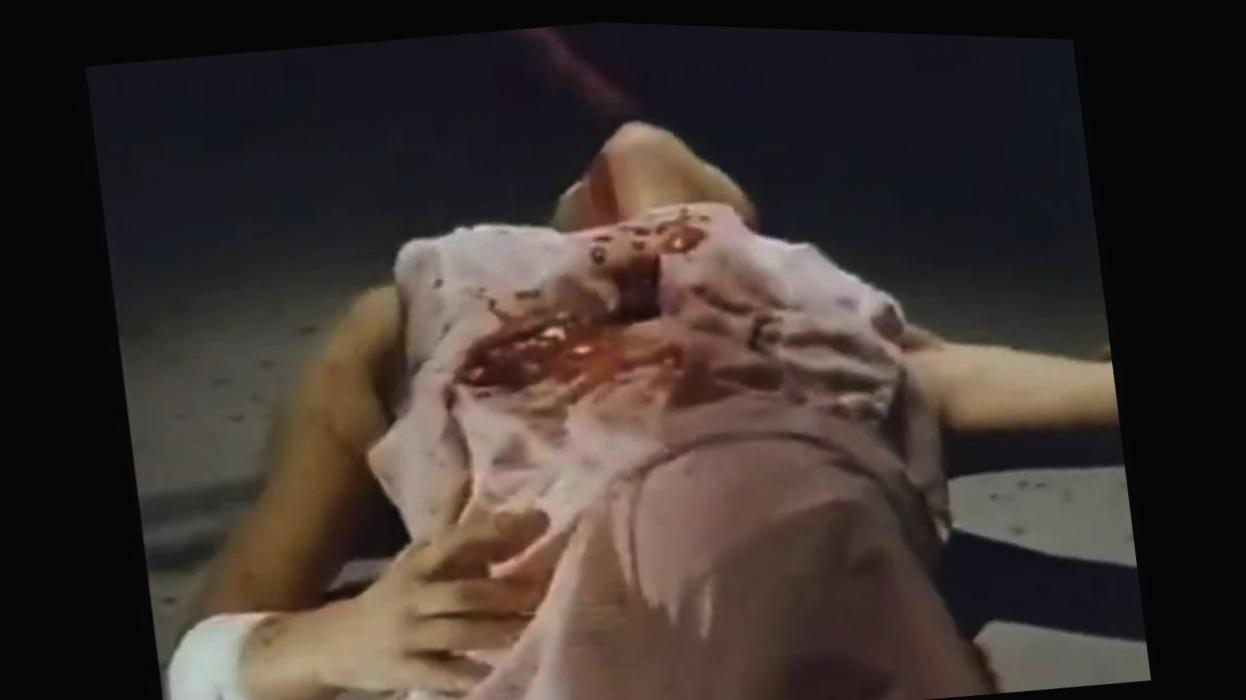Fire: (152, 153, 906, 700)
